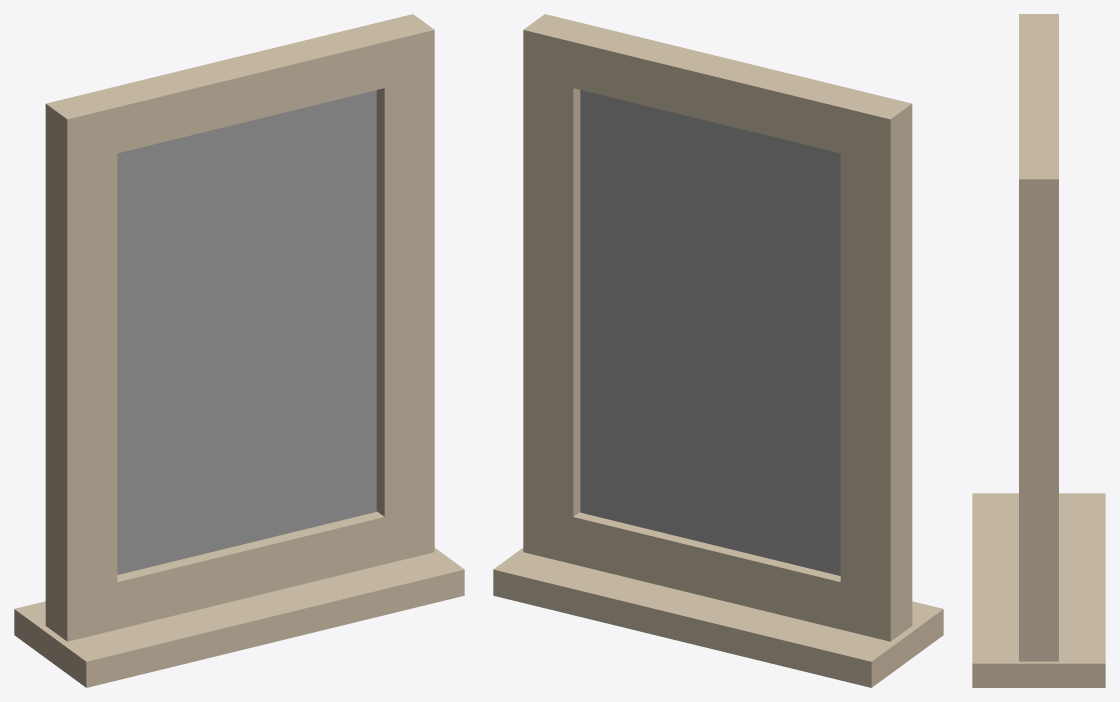
File: Window_4E.fbx
The picture shows the model from 3 angles, left to right: view 1: azimuth 30°, elevation 25°; view 2: azimuth 150°, elevation 25°; view 3: azimuth 270°, elevation 25°; orthographic projection. The views are drawn at different scales.
Parts seen in each view (by area): view 1: polySurface1631, Window_Glass_5; view 2: polySurface1631, Window_Glass_5; view 3: polySurface1631.
Part boxes in pixels (left/top/right/bottom): polySurface1631: left=14, top=14, right=464, bottom=687; Window_Glass_5: left=117, top=90, right=376, bottom=574; polySurface1631: left=493, top=14, right=943, bottom=687; Window_Glass_5: left=580, top=90, right=840, bottom=575; polySurface1631: left=972, top=14, right=1105, bottom=687.
Bounding box in the file's own units: 1.51 × 2.09 × 0.5.
2 materials, 1 textured.
